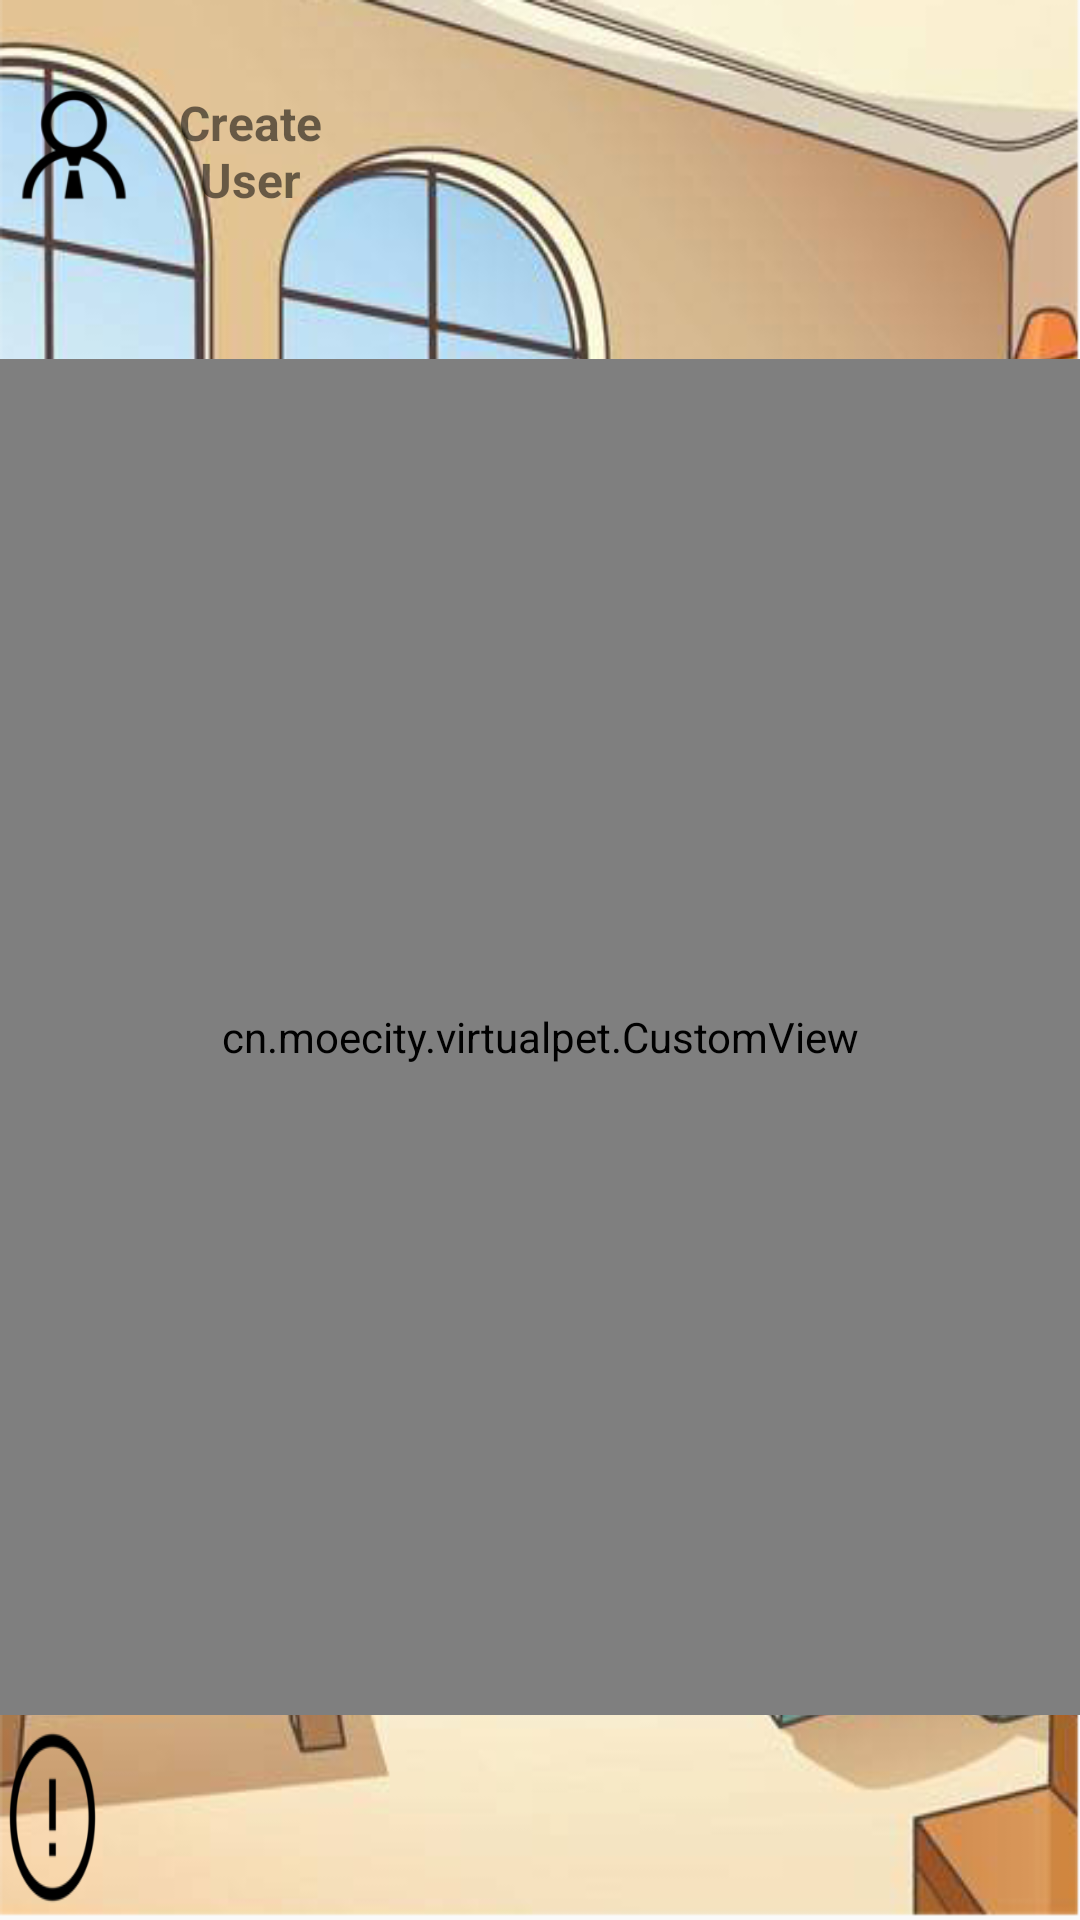

Named icons in this screenshot (1080 x 1920) and their centers, (x=x, y=y):
attention: (x=52, y=1817)
